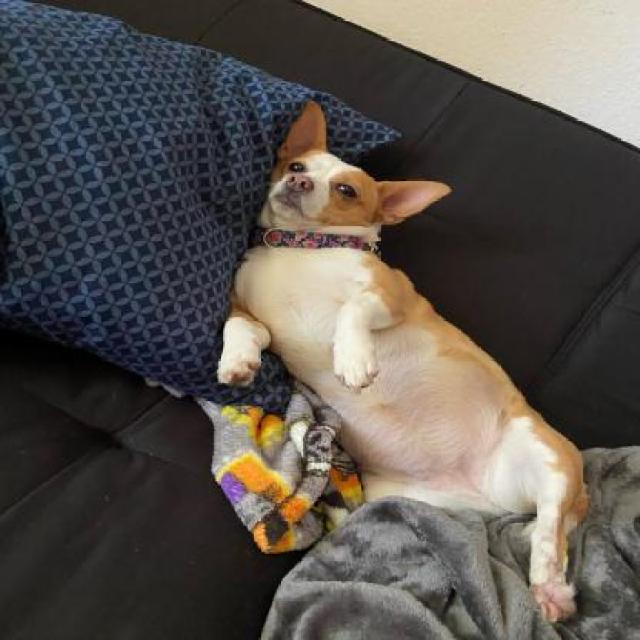Dog: (222, 100, 588, 625)
